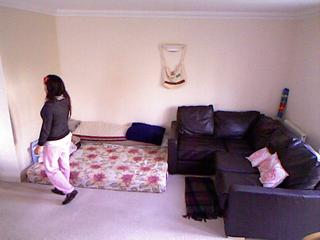FallenBody: (30, 71, 84, 204)
